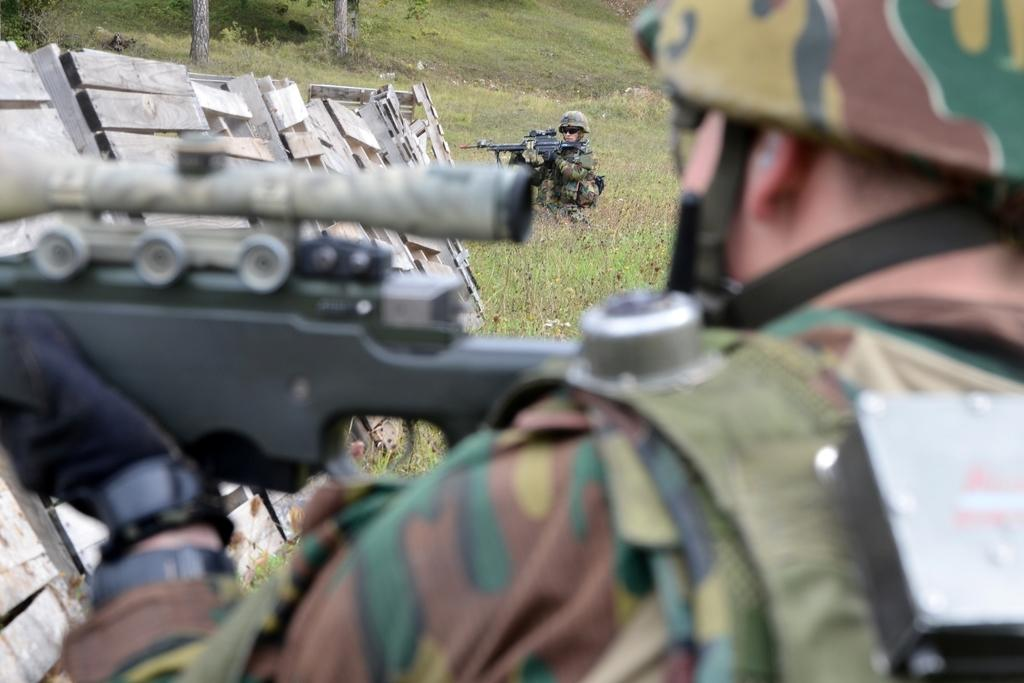Rifle: (457, 128, 595, 171)
